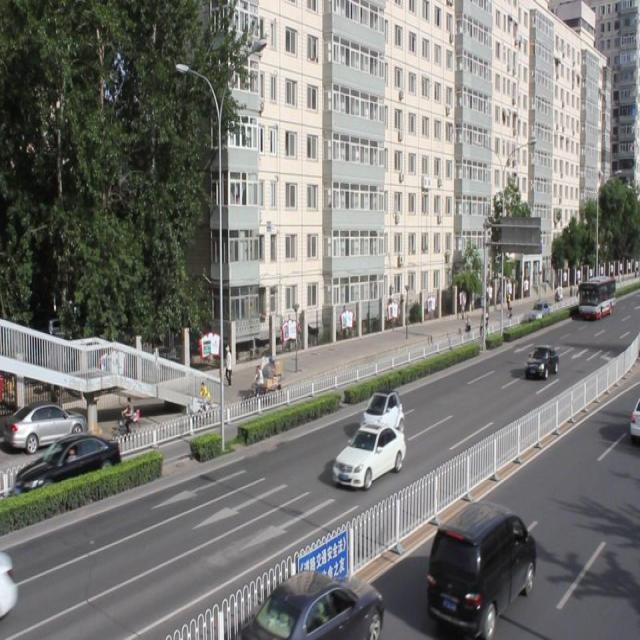car: (427, 498, 534, 632), (246, 564, 383, 640), (15, 431, 121, 497), (332, 420, 405, 487), (357, 388, 403, 438), (523, 343, 558, 379)
